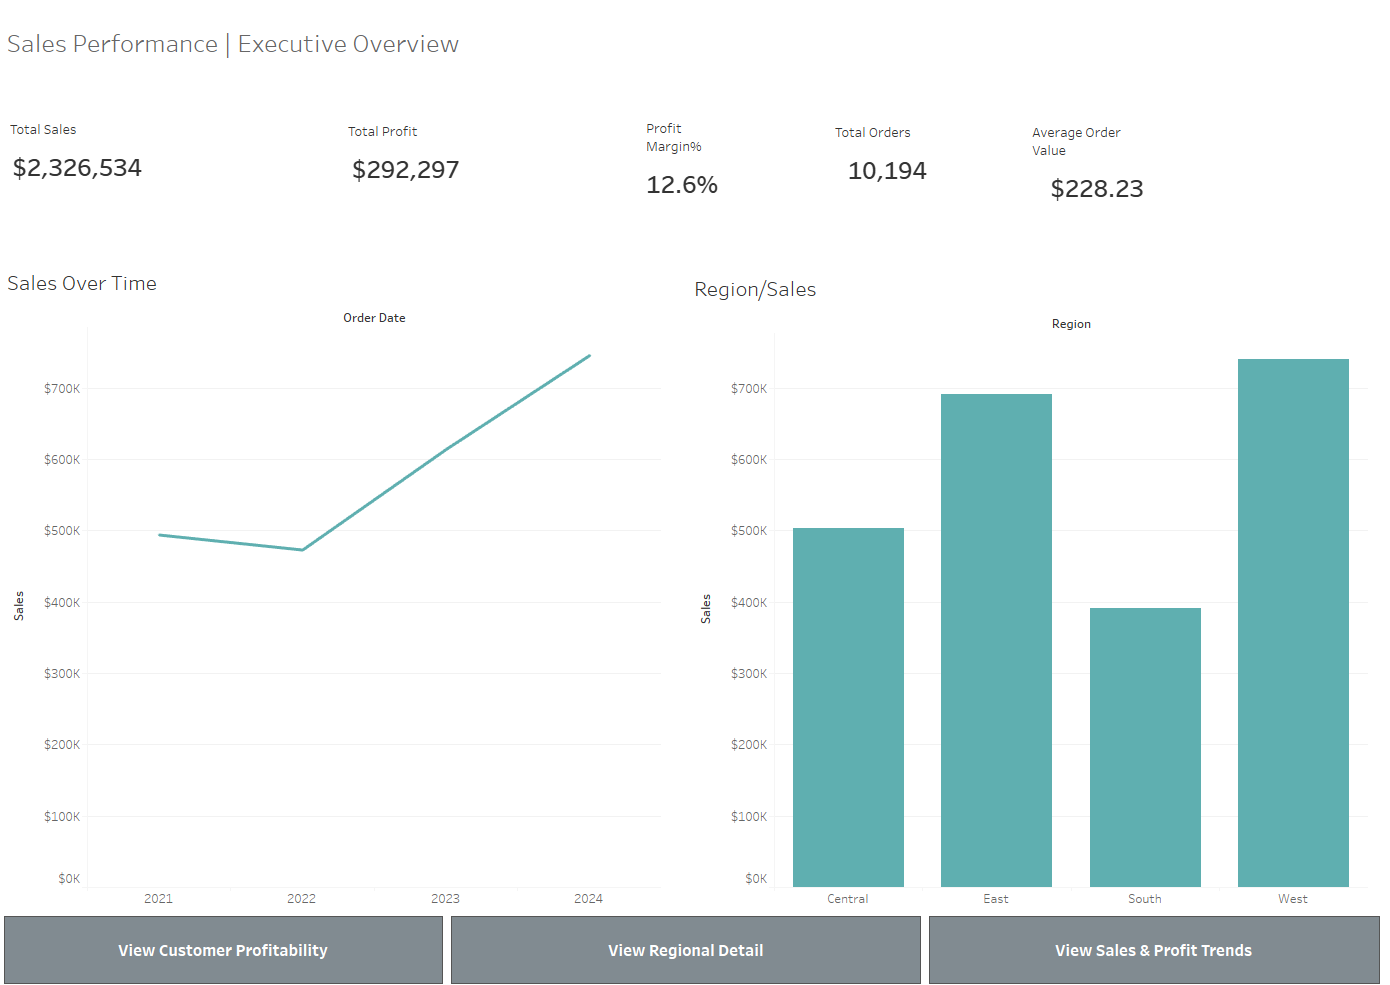

This screenshot's page, from the dashboard's own definition file:
{"tool":"tableau","page":{"name":"Executive Overview","canvas":[1400,1000],"ordinal":1},"visuals":[{"type":"text","box":[8,8,1384,77]},{"type":"worksheet","title":"Profit Margin%","mark":"Text","box":[650,119,293,124]},{"type":"worksheet","title":"Total Sales","mark":"Text","box":[14,120,309,101]},{"type":"worksheet","title":"Total Profit","mark":"Text","box":[352,122,251,101]},{"type":"worksheet","title":"Total Orders","mark":"Text","box":[839,123,242,101]},{"type":"worksheet","title":"Average Order Value","mark":"Text","box":[1036,123,289,124]},{"type":"worksheet","title":"Sales Over Time","mark":"Line","rows":["Sales"],"cols":["Order Date"],"box":[11,268,658,644]},{"type":"worksheet","title":"Region/Sales","mark":"Bar","rows":["Sales"],"cols":["Region"],"box":[698,274,678,638]},{"type":"dashboard-object","box":[8,916.3,447,75.7]},{"type":"dashboard-object","box":[455,916.3,478,75.7]},{"type":"dashboard-object","box":[933,916.3,459,75.7]}]}

Visuals, with their boxes in screenshot pixels (x1, y1, x2, y2), scaled from the page's 1400x1000 canvas onto the 1390x985 screenshot:
text: [8, 8, 1382, 84]
"Profit Margin%" worksheet (Text marks): [645, 117, 936, 239]
"Total Sales" worksheet (Text marks): [14, 118, 321, 218]
"Total Profit" worksheet (Text marks): [349, 120, 599, 220]
"Total Orders" worksheet (Text marks): [833, 121, 1073, 221]
"Average Order Value" worksheet (Text marks): [1029, 121, 1316, 243]
"Sales Over Time" worksheet (Line marks): [11, 264, 664, 898]
"Region/Sales" worksheet (Bar marks): [693, 270, 1366, 898]
dashboard-object: [8, 903, 452, 977]
dashboard-object: [452, 903, 926, 977]
dashboard-object: [926, 903, 1382, 977]
